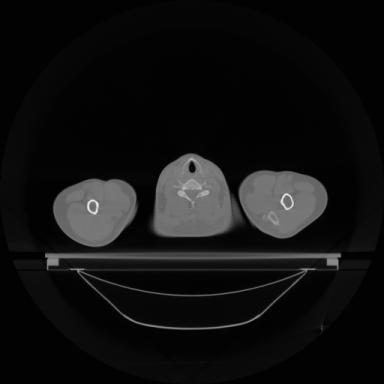body: (154, 154, 232, 237), (238, 170, 328, 238), (53, 178, 136, 246)
cord: (176, 180, 207, 202)
